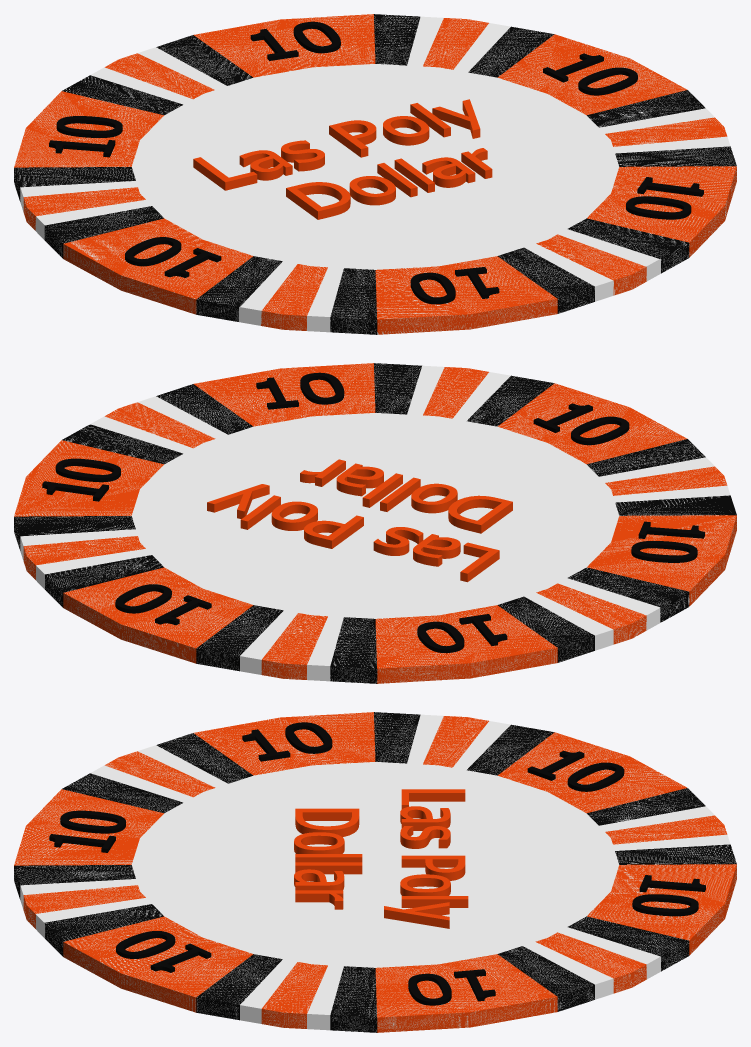
The model's file is tenLPD.obj.
3 renders of one model, top to bottom at view 1: azimuth 30°, elevation 25°; view 2: azimuth 150°, elevation 25°; view 3: azimuth 270°, elevation 25°, orthographic.
Parts seen in each view (by area): view 1: Mesh79 Model, Mesh50 Las_Poly_Dollar_1_1 Model, Mesh46 Las_Poly_Dollar_1_1 Model, Mesh54 Las_Poly_Dollar_1_1 Model, Mesh44 Las_Poly_Dollar_1_1 Model, Mesh47 Las_Poly_Dollar_1_1 Model, Mesh51 Las_Poly_Dollar_1_1 Model, Mesh9 G_10_2 Model, Mesh30 G_10_5 Model, Mesh45 Las_Poly_Dollar_1_1 Model, Mesh37 G_10_6 Model, Mesh16 G_10_3 Model (+14 smaller); view 2: Mesh79 Model, Mesh50 Las_Poly_Dollar_1_1 Model, Mesh46 Las_Poly_Dollar_1_1 Model, Mesh44 Las_Poly_Dollar_1_1 Model, Mesh54 Las_Poly_Dollar_1_1 Model, Mesh51 Las_Poly_Dollar_1_1 Model, Mesh16 G_10_3 Model, Mesh47 Las_Poly_Dollar_1_1 Model, Mesh37 G_10_6 Model, Mesh45 Las_Poly_Dollar_1_1 Model, Mesh23 G_10_4 Model, Mesh49 Las_Poly_Dollar_1_1 Model (+14 smaller); view 3: Mesh79 Model, Mesh50 Las_Poly_Dollar_1_1 Model, Mesh46 Las_Poly_Dollar_1_1 Model, Mesh49 Las_Poly_Dollar_1_1 Model, Mesh2 G_10_1 Model, Mesh23 G_10_4 Model, Mesh51 Las_Poly_Dollar_1_1 Model, Mesh47 Las_Poly_Dollar_1_1 Model, Mesh30 G_10_5 Model, Mesh9 G_10_2 Model, Mesh44 Las_Poly_Dollar_1_1 Model, Mesh54 Las_Poly_Dollar_1_1 Model (+14 smaller).
Boxes of the visible parts, x1,y1,x2,y2 form: Mesh79 Model: (14, 14, 736, 334); Mesh50 Las_Poly_Dollar_1_1 Model: (286, 182, 350, 219); Mesh46 Las_Poly_Dollar_1_1 Model: (329, 120, 376, 157); Mesh54 Las_Poly_Dollar_1_1 Model: (422, 157, 475, 187); Mesh44 Las_Poly_Dollar_1_1 Model: (239, 150, 292, 180); Mesh47 Las_Poly_Dollar_1_1 Model: (383, 116, 429, 145); Mesh51 Las_Poly_Dollar_1_1 Model: (349, 176, 395, 205); Mesh9 G_10_2 Model: (56, 116, 122, 137); Mesh30 G_10_5 Model: (626, 196, 691, 219); Mesh45 Las_Poly_Dollar_1_1 Model: (281, 140, 324, 171); Mesh37 G_10_6 Model: (578, 67, 637, 95); Mesh16 G_10_3 Model: (125, 237, 181, 266); Mesh79 Model: (14, 363, 736, 683); Mesh50 Las_Poly_Dollar_1_1 Model: (448, 495, 512, 533); Mesh46 Las_Poly_Dollar_1_1 Model: (304, 515, 363, 548); Mesh44 Las_Poly_Dollar_1_1 Model: (413, 534, 460, 566); Mesh54 Las_Poly_Dollar_1_1 Model: (336, 463, 383, 496); Mesh51 Las_Poly_Dollar_1_1 Model: (411, 483, 457, 513); Mesh16 G_10_3 Model: (631, 541, 697, 562); Mesh47 Las_Poly_Dollar_1_1 Model: (271, 501, 317, 530); Mesh37 G_10_6 Model: (55, 458, 120, 482); Mesh45 Las_Poly_Dollar_1_1 Model: (373, 527, 423, 555); Mesh23 G_10_4 Model: (571, 416, 629, 445); Mesh49 Las_Poly_Dollar_1_1 Model: (207, 484, 269, 518); Mesh79 Model: (14, 712, 736, 1032); Mesh50 Las_Poly_Dollar_1_1 Model: (295, 808, 359, 837); Mesh46 Las_Poly_Dollar_1_1 Model: (401, 855, 465, 880); Mesh49 Las_Poly_Dollar_1_1 Model: (384, 902, 449, 928); Mesh2 G_10_1 Model: (632, 894, 698, 916); Mesh23 G_10_4 Model: (60, 810, 125, 833); Mesh51 Las_Poly_Dollar_1_1 Model: (294, 832, 344, 853); Mesh47 Las_Poly_Dollar_1_1 Model: (400, 874, 450, 895); Mesh30 G_10_5 Model: (116, 931, 175, 958); Mesh9 G_10_2 Model: (567, 762, 624, 791); Mesh44 Las_Poly_Dollar_1_1 Model: (400, 806, 450, 830); Mesh54 Las_Poly_Dollar_1_1 Model: (294, 869, 344, 890).
Bounding box in the file's own units: 21.5 × 0.78 × 21.5.
